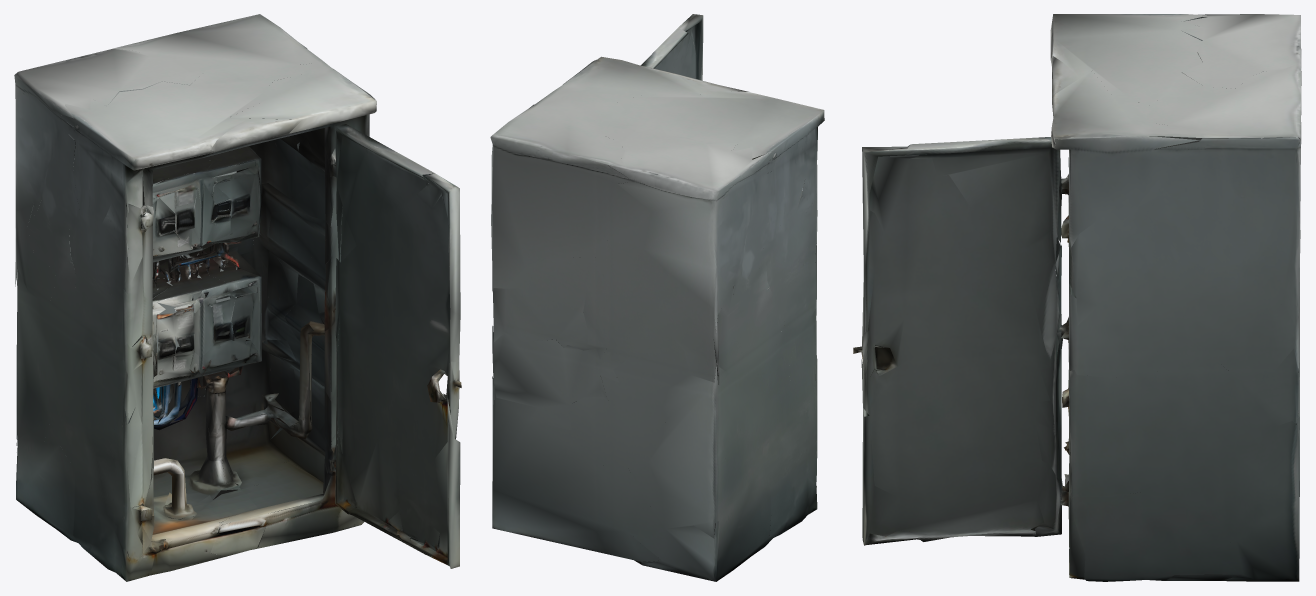
Rendered from switch_cabinet_LOD1.fbx.
The picture shows the model from 3 angles, left to right: view 1: azimuth 30°, elevation 25°; view 2: azimuth 150°, elevation 25°; view 3: azimuth 270°, elevation 25°; orthographic projection. The views are drawn at different scales.
Visible parts, largest first — view 1: switch_cabinet.001; view 2: switch_cabinet.001; view 3: switch_cabinet.001.
Part boxes in pixels (bbox=[...]): switch_cabinet.001: bbox=[14, 14, 461, 581]; switch_cabinet.001: bbox=[490, 14, 824, 581]; switch_cabinet.001: bbox=[853, 14, 1301, 581].
Bounding box in the file's own units: 1.2 × 2 × 1.81.
Materials: 1 (1 with a texture image).
